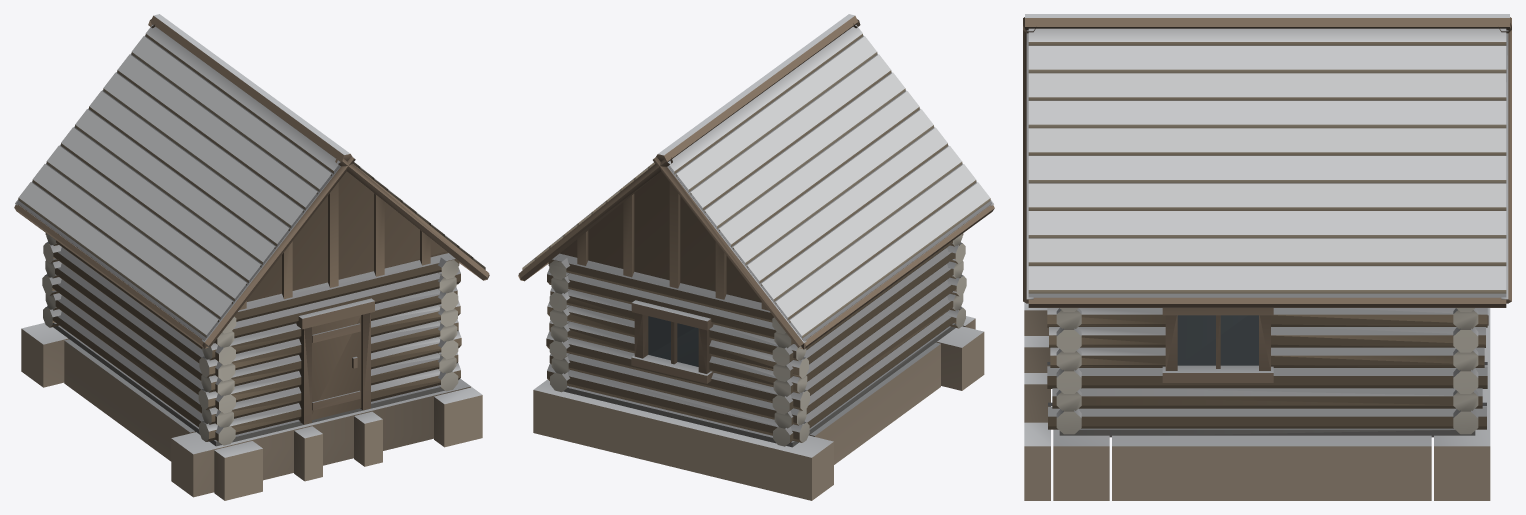
Rendered from logcabin.glb.
3 renders of one model, left to right at view 1: azimuth 30°, elevation 25°; view 2: azimuth 150°, elevation 25°; view 3: azimuth 270°, elevation 25°, orthographic. The views are drawn at different scales.
Visible parts, largest first — view 1: logcabin; view 2: logcabin; view 3: logcabin.
Part boxes in pixels (x1=…): logcabin: x1=14, y1=14, x2=489, y2=500; logcabin: x1=518, y1=14, x2=994, y2=500; logcabin: x1=1023, y1=14, x2=1511, y2=500.
Bounding box in the file's own units: 7.2 × 7.57 × 8.35.
